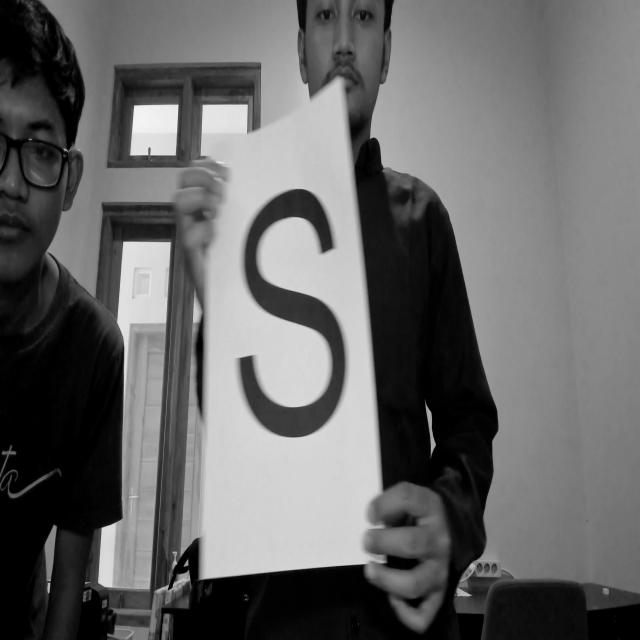s: (226, 175, 352, 460)
